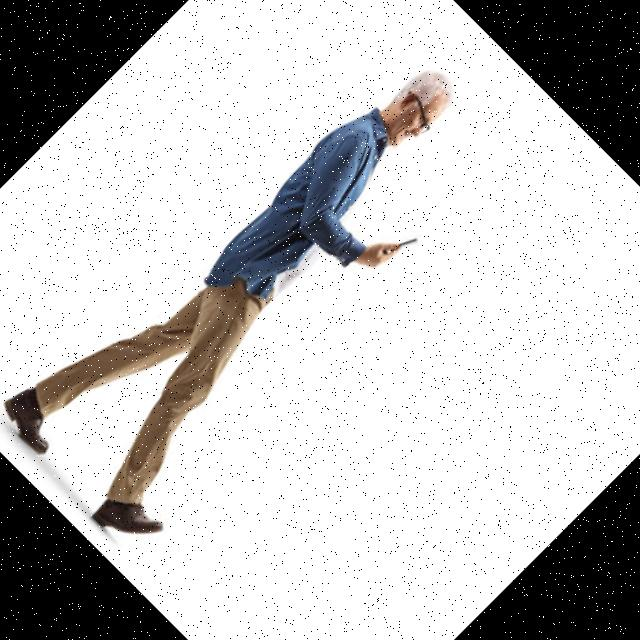Person: (0, 18, 530, 559)
